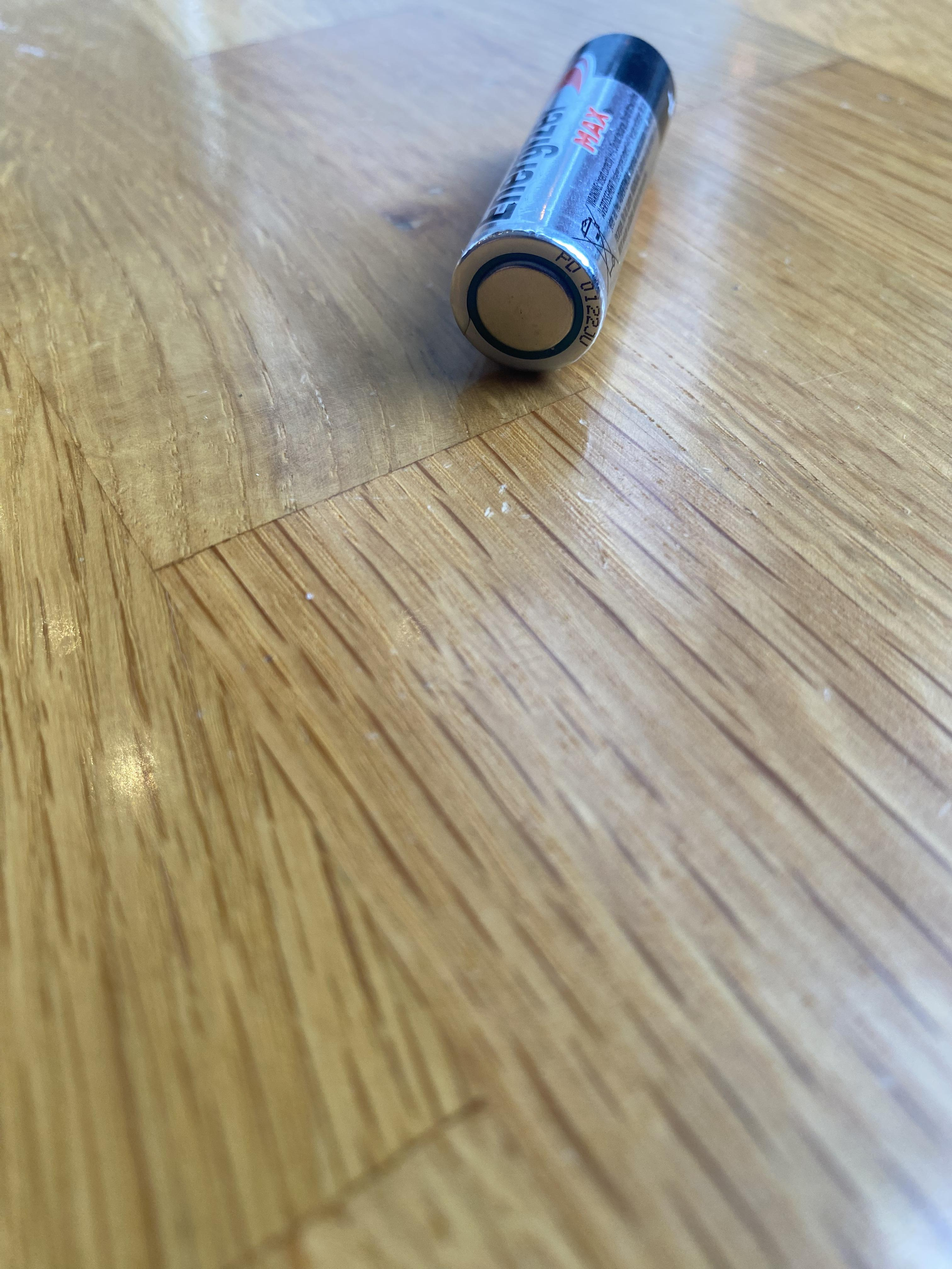AA: (448, 31, 676, 374)
